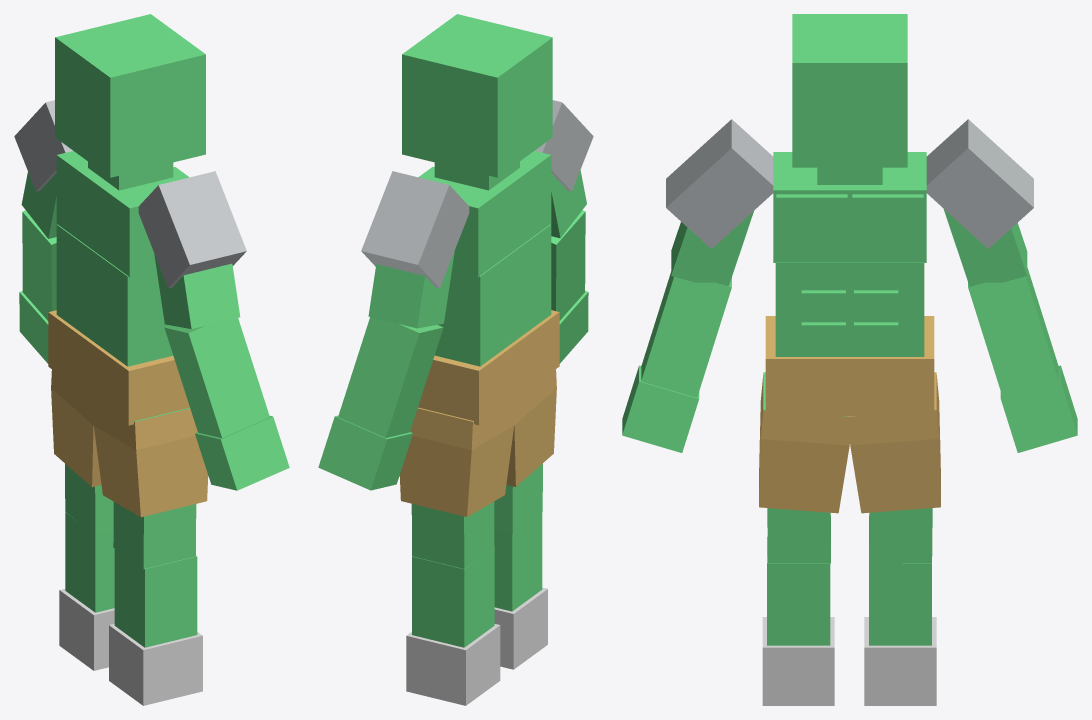
Rendered from sila_goblin.fbx.
3 views of the same model, side by side, from view 1: azimuth 30°, elevation 25°; view 2: azimuth 150°, elevation 25°; view 3: azimuth 270°, elevation 25° (orthographic). The views are drawn at different scales.
Visible parts, largest first — view 1: Cube.040, Cube.048, Cube.055, Cube.043, Cube.020, Cube.054, Cube.051, Cube.041, Cube.050, Cube.044, Cube.042, Cube.039 (+7 smaller); view 2: Cube.040, Cube.050, Cube.055, Cube.052, Cube.038, Cube.054, Cube.051, Cube.047, Cube.048, Cube.045, Cube.046, Cube.053 (+7 smaller); view 3: Cube.040, Cube.050, Cube.048, Cube.051, Cube.056, Cube.055, Cube.020, Cube.038, Cube.052, Cube.043, Cube.057, Cube.041 (+9 smaller).
Boxes of the visible parts, box(x1,y1,x2,y2) form: Cube.040: box(55, 14, 205, 177); Cube.048: box(92, 399, 208, 569); Cube.055: box(56, 224, 173, 366); Cube.043: box(164, 318, 269, 437); Cube.020: box(138, 171, 246, 288); Cube.054: box(56, 151, 187, 277); Cube.051: box(48, 310, 189, 425); Cube.041: box(114, 549, 197, 647); Cube.050: box(51, 369, 113, 534); Cube.044: box(109, 623, 202, 705); Cube.042: box(195, 416, 289, 490); Cube.039: box(154, 254, 240, 328); Cube.040: box(402, 14, 552, 177); Cube.050: box(399, 401, 514, 568); Cube.055: box(434, 224, 551, 366); Cube.052: box(338, 317, 443, 437); Cube.038: box(361, 171, 469, 288); Cube.054: box(420, 151, 551, 277); Cube.051: box(418, 310, 559, 425); Cube.047: box(412, 547, 494, 647); Cube.048: box(494, 369, 556, 534); Cube.045: box(406, 624, 500, 705); Cube.046: box(318, 415, 412, 490); Cube.053: box(368, 251, 454, 328); Cube.040: box(792, 14, 907, 167); Cube.050: box(847, 372, 940, 563); Cube.048: box(759, 372, 849, 563); Cube.051: box(765, 316, 934, 415); Cube.056: box(776, 194, 923, 261); Cube.055: box(775, 262, 924, 356); Cube.020: box(666, 119, 773, 248); Cube.038: box(926, 119, 1033, 248); Cube.052: box(968, 267, 1058, 397); Cube.043: box(641, 271, 731, 397); Cube.057: box(801, 290, 898, 353); Cube.041: box(767, 536, 830, 645).
Size of the model in its own units: 119 by 701 by 444.
